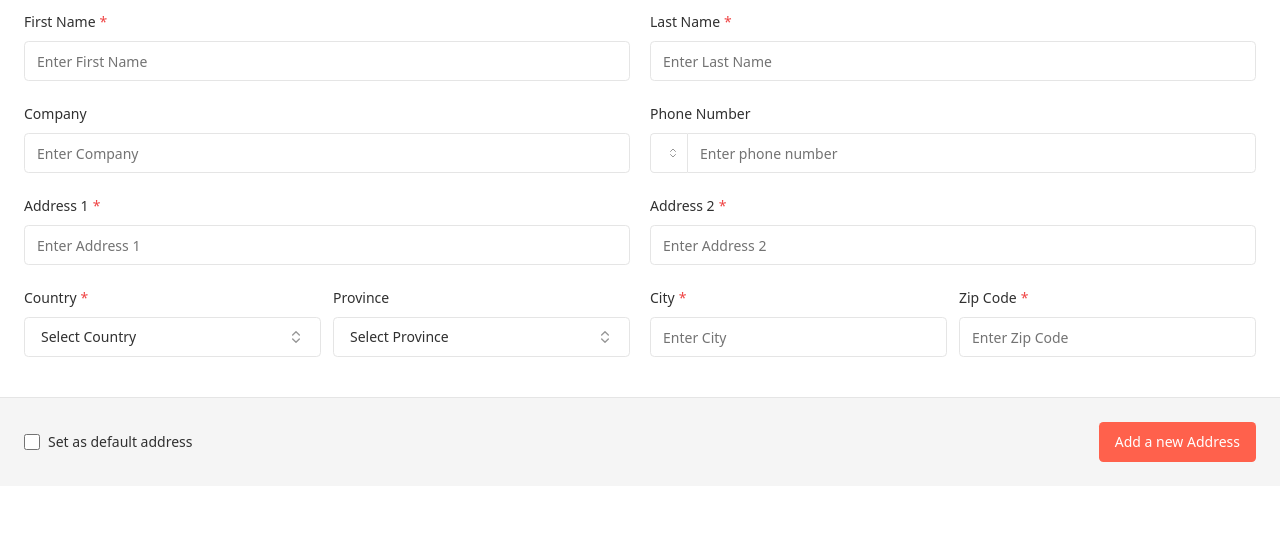
Test case: AddressForm › displays validation errors for empty required fields
This screenshot has width=1280, height=551.
What coordinates should you click on to do the following:
click the button "Add a new Address"
I would click on:
 (1177, 442)
Its box is [1099,422,1256,462].
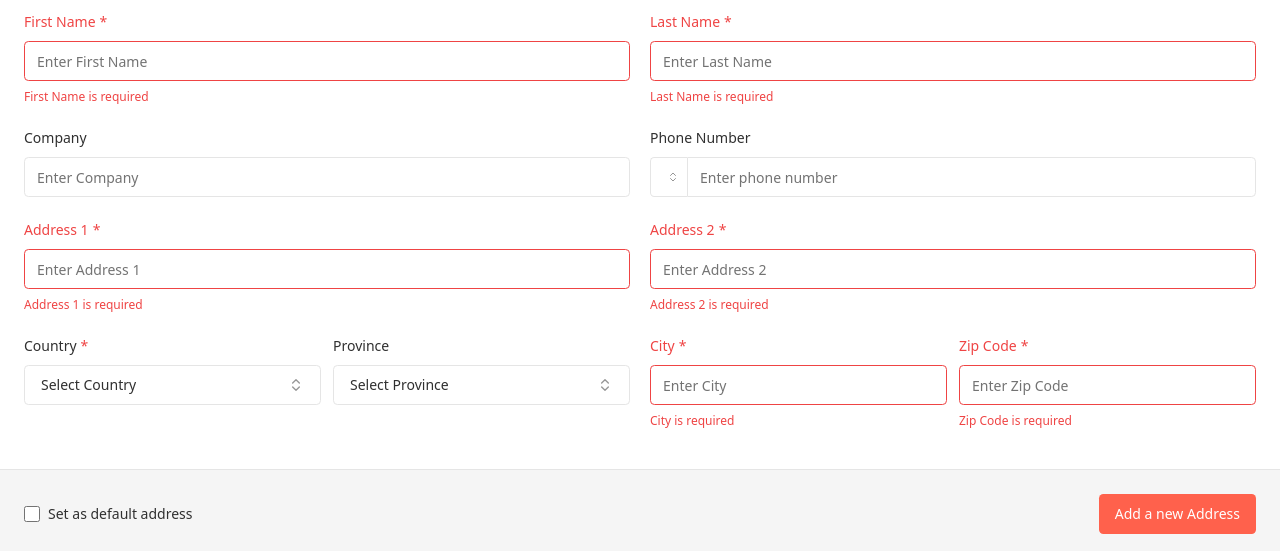
Now the text "First Name is required" is shown, box [24,88,149,105]
Now the text "Last Name is required" is shown, box [650,88,773,105]
Now the text "Address 1 is required" is shown, box [24,296,143,313]
